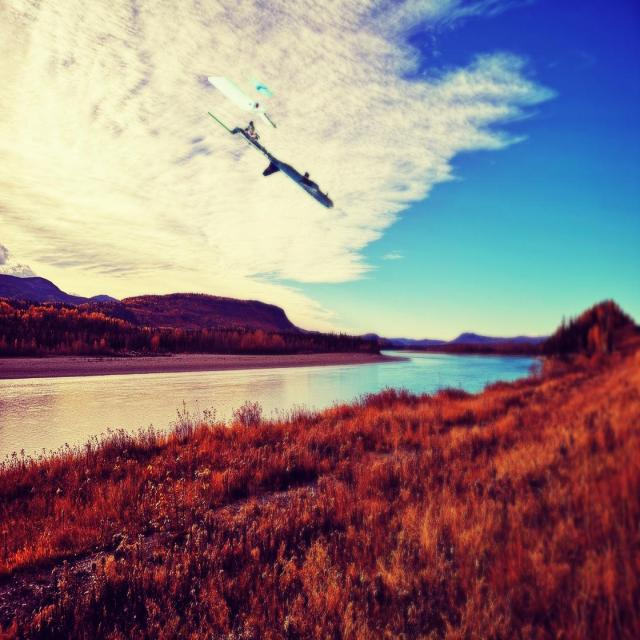airplane: (206, 75, 334, 209)
